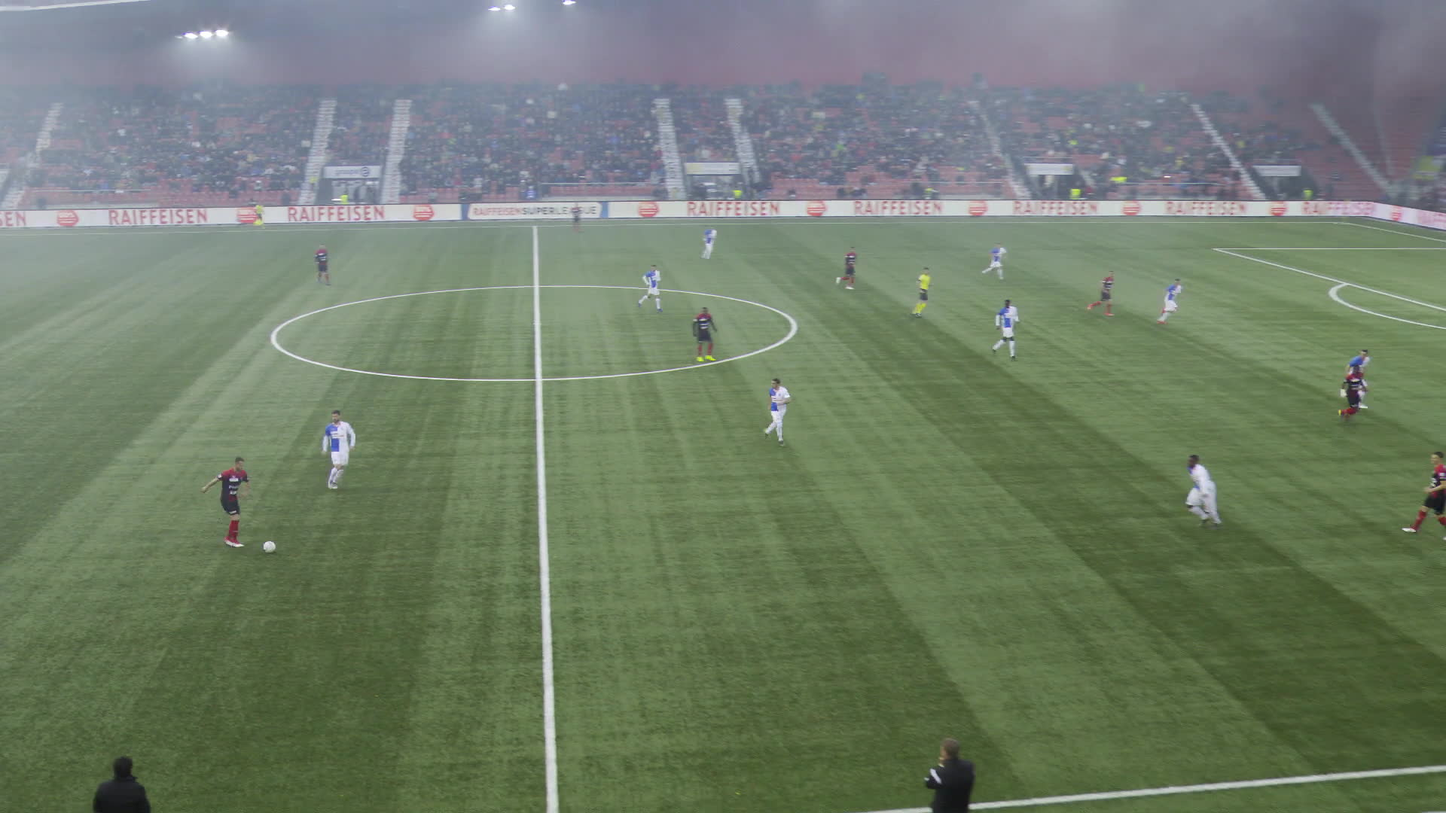ball: (263, 540, 275, 552)
player: (201, 458, 250, 548), (316, 408, 356, 490), (1183, 453, 1225, 531), (1332, 363, 1366, 425), (761, 379, 792, 447), (1414, 468, 1441, 540), (991, 300, 1021, 361), (1347, 349, 1374, 406), (692, 307, 720, 361), (1150, 277, 1182, 324), (638, 265, 663, 313), (1092, 271, 1115, 316), (839, 245, 858, 289), (985, 244, 1007, 280), (315, 242, 331, 285), (700, 225, 718, 261), (572, 203, 581, 230)
referee: (906, 266, 932, 318), (255, 201, 264, 227)
